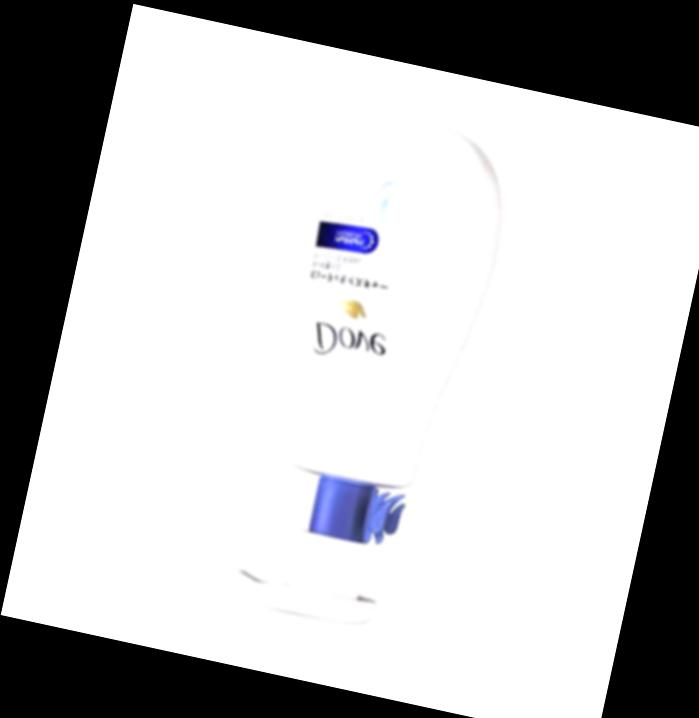cosmetic: (213, 95, 527, 644)
